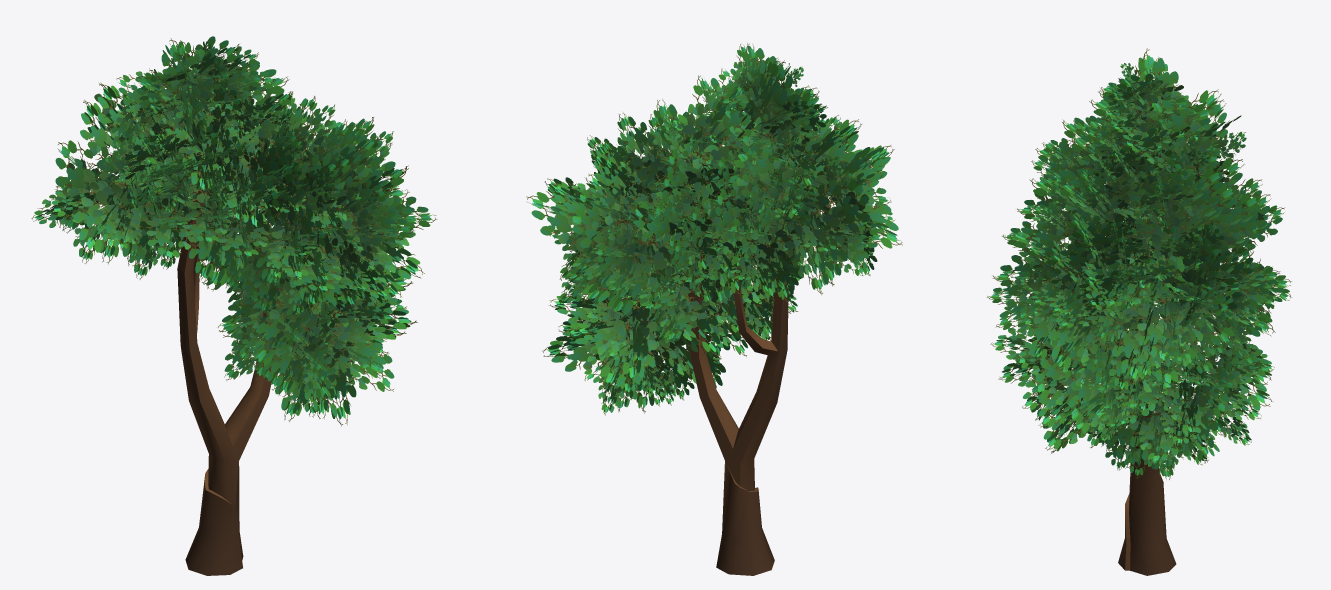
The model's file is Tree_1B.fbx.
The picture shows the model from 3 angles, left to right: view 1: azimuth 30°, elevation 25°; view 2: azimuth 150°, elevation 25°; view 3: azimuth 270°, elevation 25°; orthographic projection. The views are drawn at different scales.
Visible parts, largest first — view 1: Tree_1B; view 2: Tree_1B; view 3: Tree_1B.
Part boxes in pixels (x1,y1,x2,y2): Tree_1B: [31, 36, 437, 575]; Tree_1B: [526, 43, 902, 575]; Tree_1B: [987, 48, 1291, 575].
Size of the model in its own units: 644 by 887 by 544.
